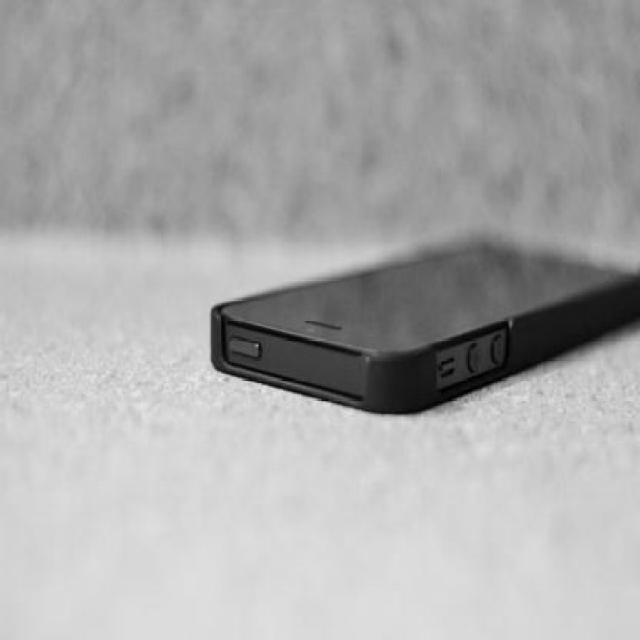fake: (213, 220, 604, 420)
